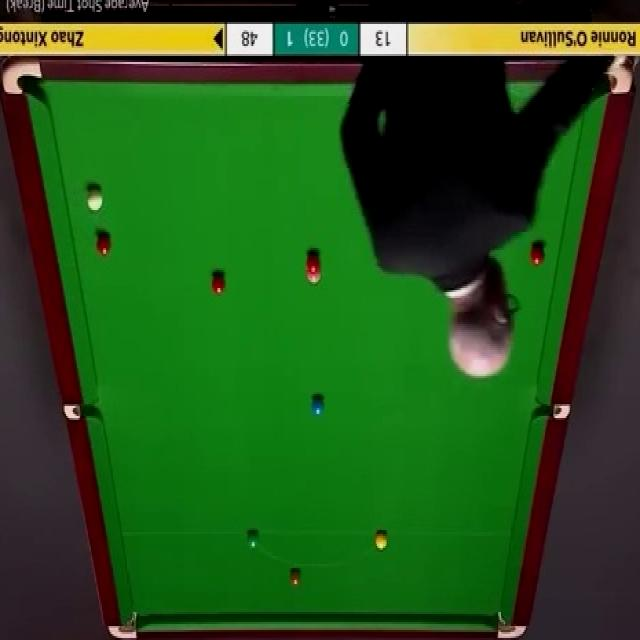blue-ball: (313, 395, 324, 415)
brown-ball: (288, 567, 304, 587)
green-ball: (247, 530, 260, 551)
pink-ball: (309, 264, 322, 284)
red-ball: (530, 242, 547, 264), (97, 230, 111, 256), (212, 273, 226, 295), (307, 248, 320, 270)
white-ball: (86, 184, 103, 212)
yellow-ball: (375, 530, 389, 551)
